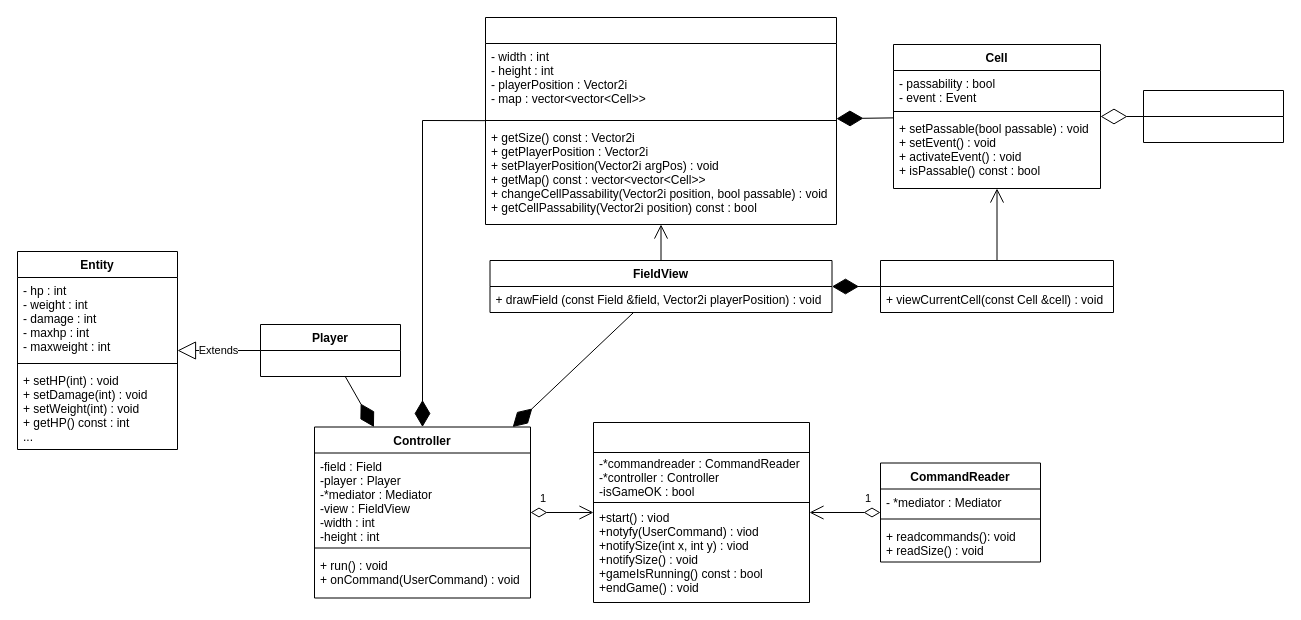
Some shapes in this 1301 by 620 pixel diagram are drawn without their labels. Each missing label, with the box of its shape:
CellView: (880, 260, 1114, 312)
Event: (1142, 90, 1284, 142)
Field: (484, 16, 836, 224)
Mediator: (592, 422, 810, 602)
